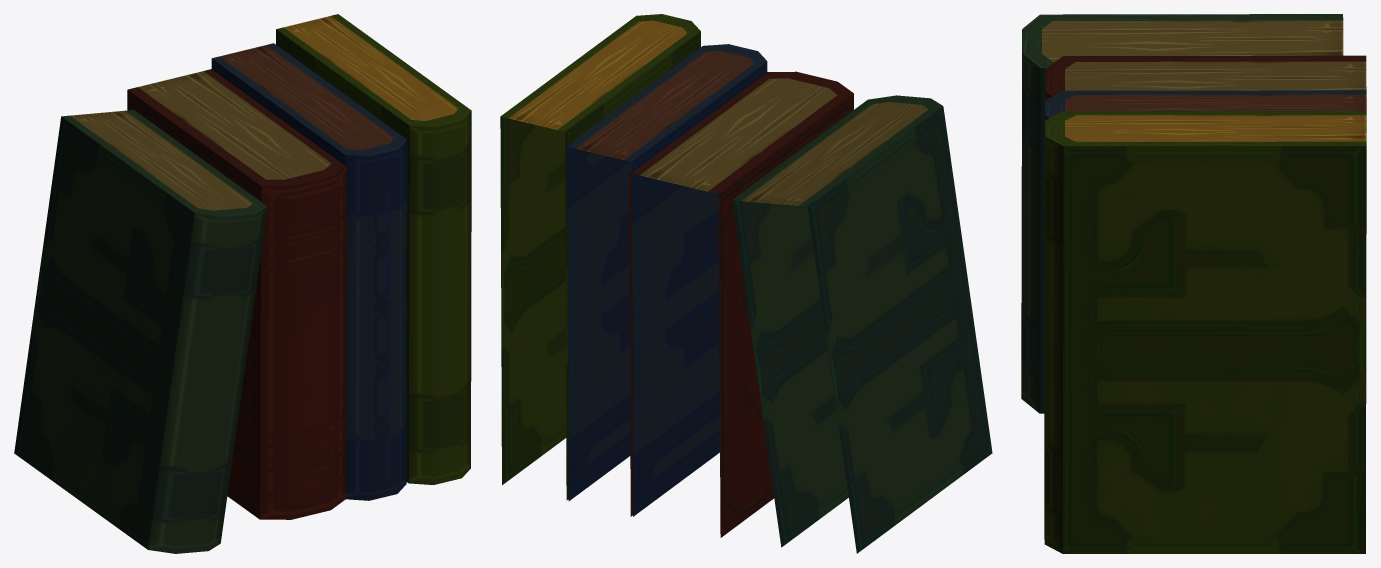
Rendered from BookGroup_Small_1.gltf.
3 views of the same model, side by side, from view 1: azimuth 30°, elevation 25°; view 2: azimuth 150°, elevation 25°; view 3: azimuth 270°, elevation 25° (orthographic). The views are drawn at different scales.
Visible parts, largest first — view 1: BookGroup_Small_1; view 2: BookGroup_Small_1; view 3: BookGroup_Small_1.
Part boxes in pixels (bbox=[...]): BookGroup_Small_1: bbox=[14, 14, 471, 553]; BookGroup_Small_1: bbox=[500, 14, 992, 553]; BookGroup_Small_1: bbox=[1021, 14, 1366, 553].
Size of the model in its own units: 0.2893 by 0.2983 by 0.2256.
Materials: 1 (1 with a texture image).
